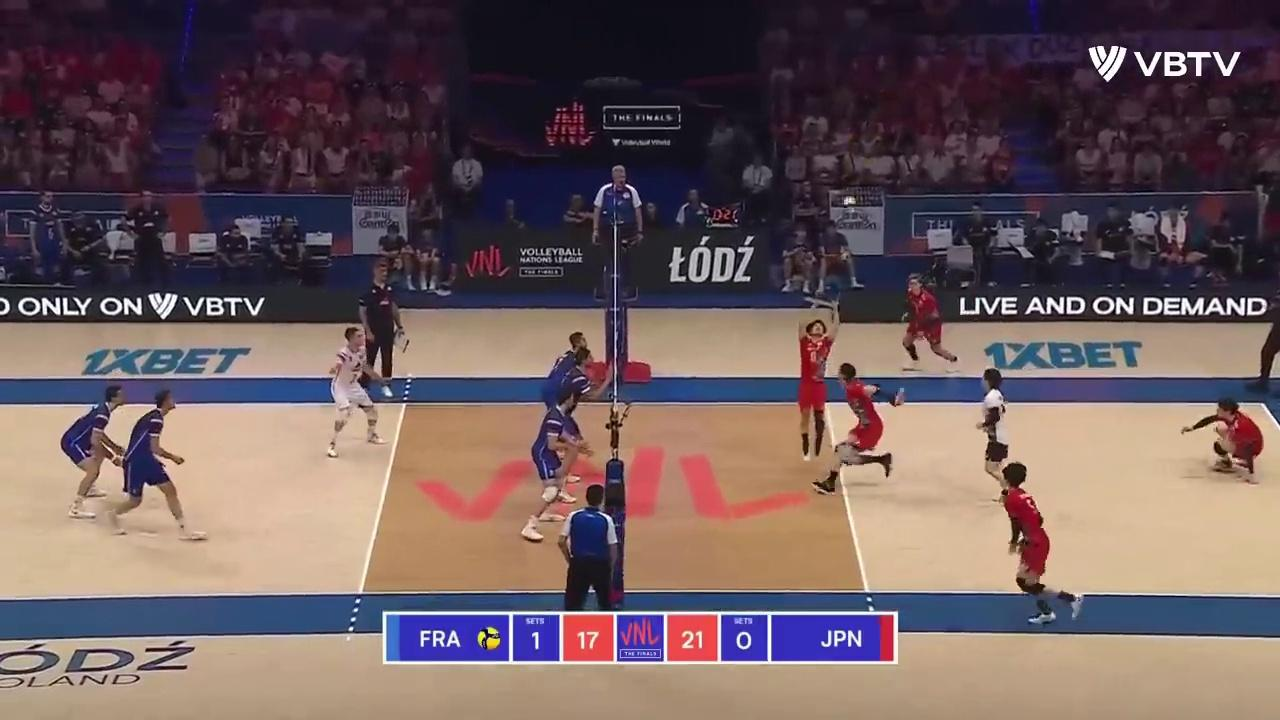ball: (839, 196, 857, 208)
